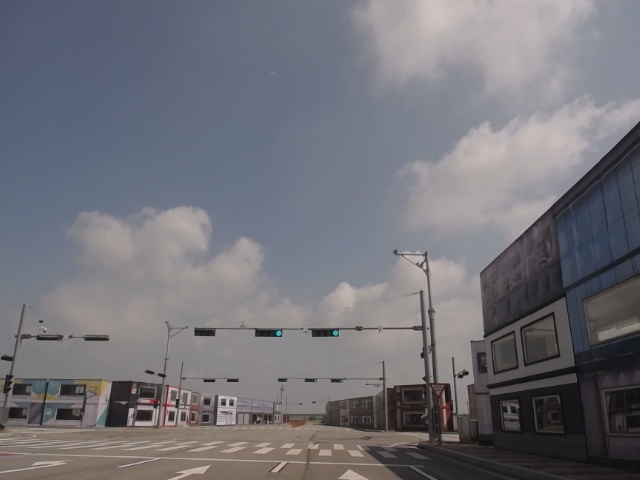straight_green_4: (313, 328, 341, 338), (253, 329, 283, 338)
